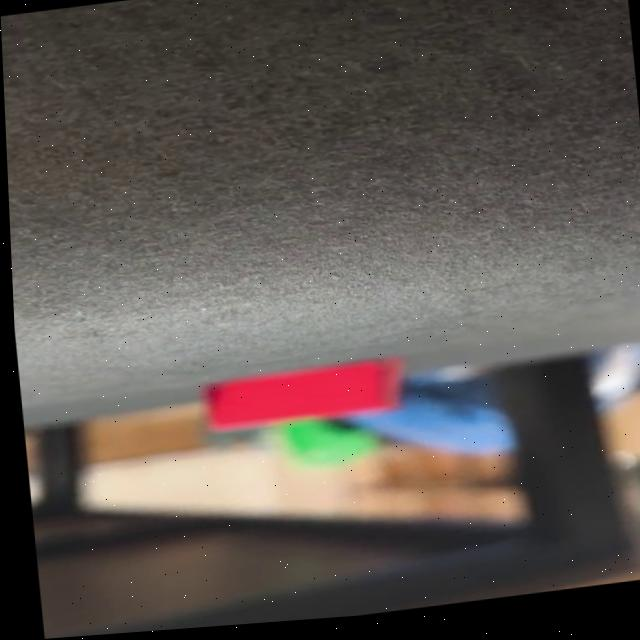red block: (200, 356, 410, 438)
